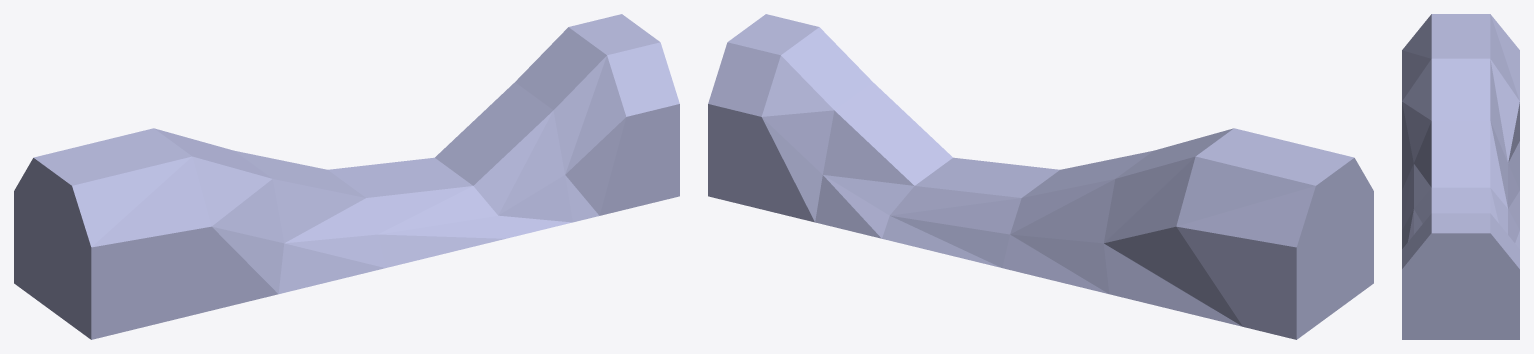
Rendered from NewSlopeDown.fbx.
3 renders of one model, left to right at view 1: azimuth 30°, elevation 25°; view 2: azimuth 150°, elevation 25°; view 3: azimuth 270°, elevation 25°, orthographic. The views are drawn at different scales.
Parts seen in each view (by area): view 1: Flat1; view 2: Flat1; view 3: Flat1.
Part boxes in pixels (x1,y1,x2,y2): Flat1: (14, 14, 679, 339); Flat1: (708, 14, 1373, 339); Flat1: (1402, 14, 1519, 339).
Size of the model in its own units: 44 by 10 by 10.
